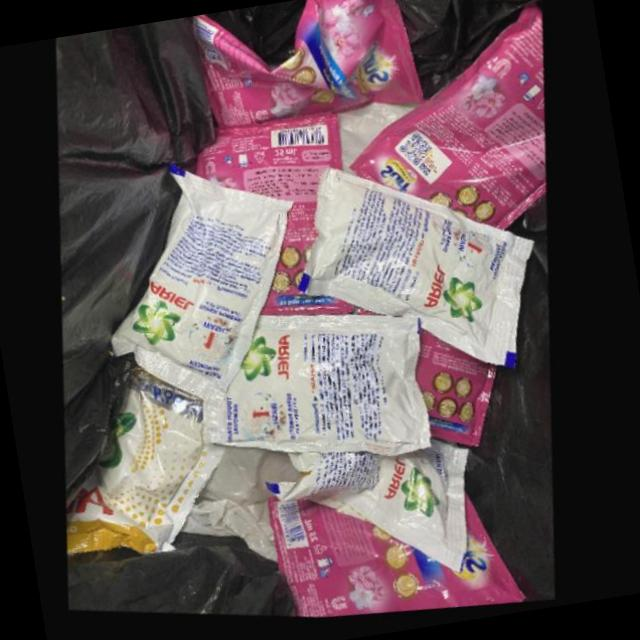goi_nhua_nho: (302, 171, 537, 368), (352, 4, 548, 230), (115, 169, 296, 410), (196, 116, 377, 320), (273, 496, 531, 622), (207, 318, 435, 459), (195, 0, 426, 131), (72, 374, 231, 563), (271, 444, 473, 575), (419, 329, 498, 449)
